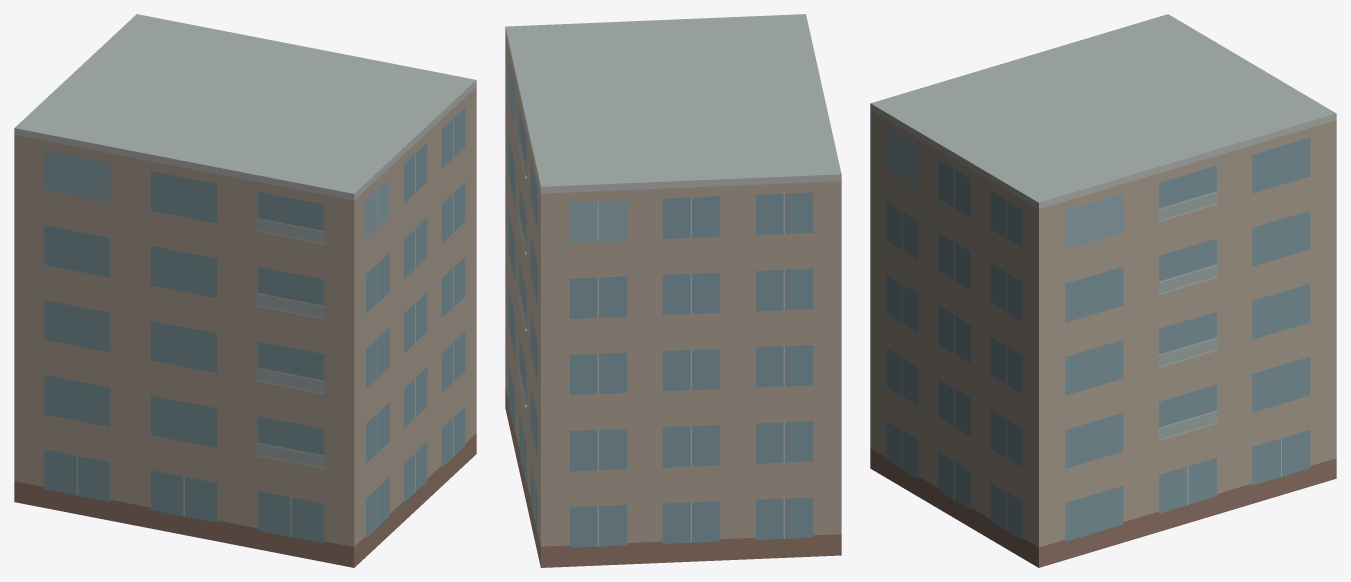
The model's file is survey-upis-32732640.glb.
3 renders of one model, left to right at view 1: azimuth 30°, elevation 25°; view 2: azimuth 150°, elevation 25°; view 3: azimuth 270°, elevation 25°, orthographic. The views are drawn at different scales.
Visible parts, largest first — view 1: survey-upis-32732640.tmp; view 2: survey-upis-32732640.tmp; view 3: survey-upis-32732640.tmp.
Part boxes in pixels (x1,y1,x2,y2): survey-upis-32732640.tmp: (14, 14, 476, 567); survey-upis-32732640.tmp: (505, 14, 841, 567); survey-upis-32732640.tmp: (870, 14, 1336, 567).
Size of the model in its own units: 15.09 by 13.6 by 15.75.
